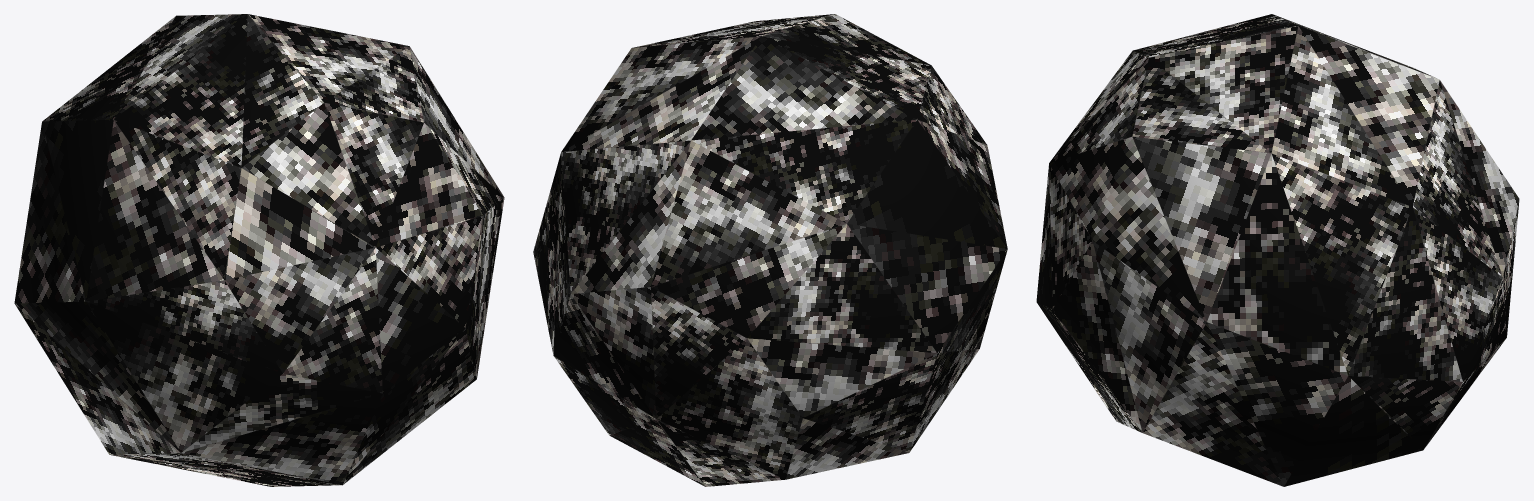
The model's file is large asteroid.dae.
3 views of the same model, side by side, from view 1: azimuth 30°, elevation 25°; view 2: azimuth 150°, elevation 25°; view 3: azimuth 270°, elevation 25° (orthographic). The views are drawn at different scales.
Visible parts, largest first — view 1: grey; view 2: grey; view 3: grey.
Boxes of the visible parts, x1,y1,x2,y2 form: grey: [14, 14, 504, 486]; grey: [533, 14, 1007, 486]; grey: [1036, 14, 1519, 486].
Bounding box in the file's own units: 1826 × 1911 × 1866.
1 material, 1 textured.
